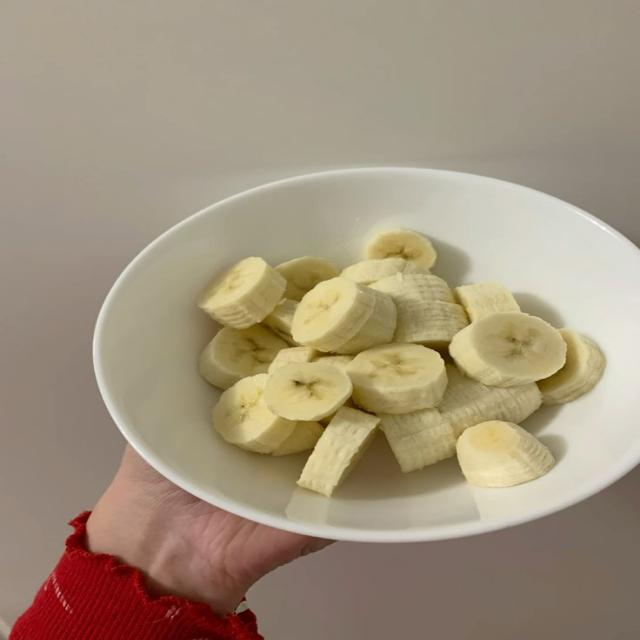banana slice: (449, 312, 566, 386), (438, 365, 541, 437), (298, 408, 379, 496), (371, 274, 467, 348), (347, 344, 446, 414), (213, 374, 295, 453), (457, 421, 554, 487), (198, 258, 286, 328), (293, 278, 376, 352), (199, 325, 287, 389), (538, 329, 605, 404), (265, 363, 352, 420), (379, 409, 455, 472), (335, 291, 396, 354), (394, 301, 467, 349), (365, 229, 436, 268), (275, 257, 339, 300), (454, 282, 519, 321), (371, 274, 454, 304), (341, 258, 430, 285), (272, 421, 323, 456), (263, 299, 299, 346), (268, 347, 319, 373), (314, 355, 353, 371), (319, 412, 336, 426)
